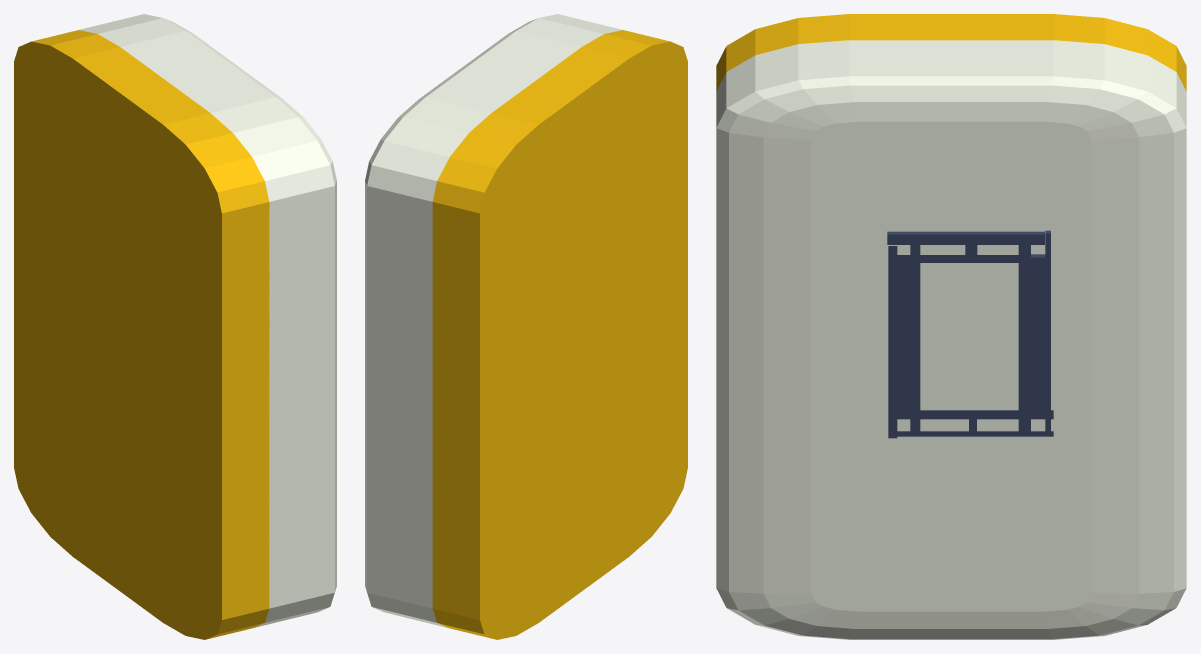
Rendered from Mahjong2.fbx.
3 views of the same model, side by side, from view 1: azimuth 30°, elevation 25°; view 2: azimuth 150°, elevation 25°; view 3: azimuth 270°, elevation 25° (orthographic). The views are drawn at different scales.
Parts seen in each view (by area): view 1: Cube; view 2: Cube; view 3: Cube.
Boxes of the visible parts, <box> form: Cube: <box>14,14,336,639</box>; Cube: <box>365,14,687,639</box>; Cube: <box>716,14,1186,639</box>.
Bounding box in the file's own units: 164 × 583 × 441.
